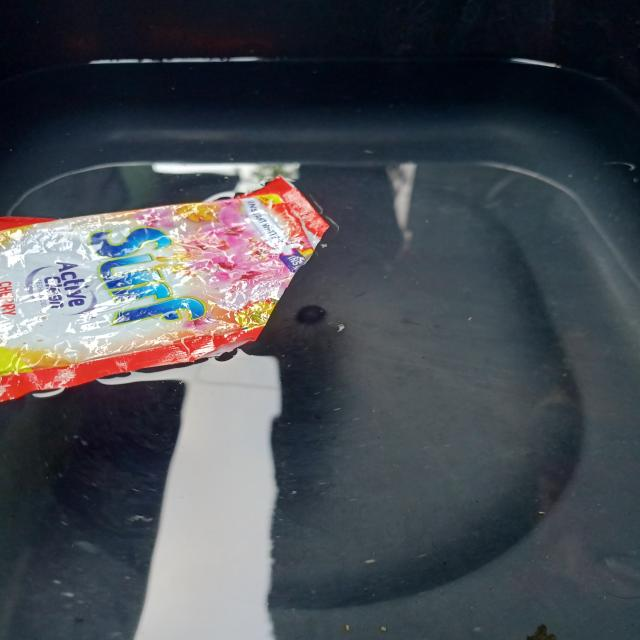Plastic Wrapper: (0, 177, 329, 401)
